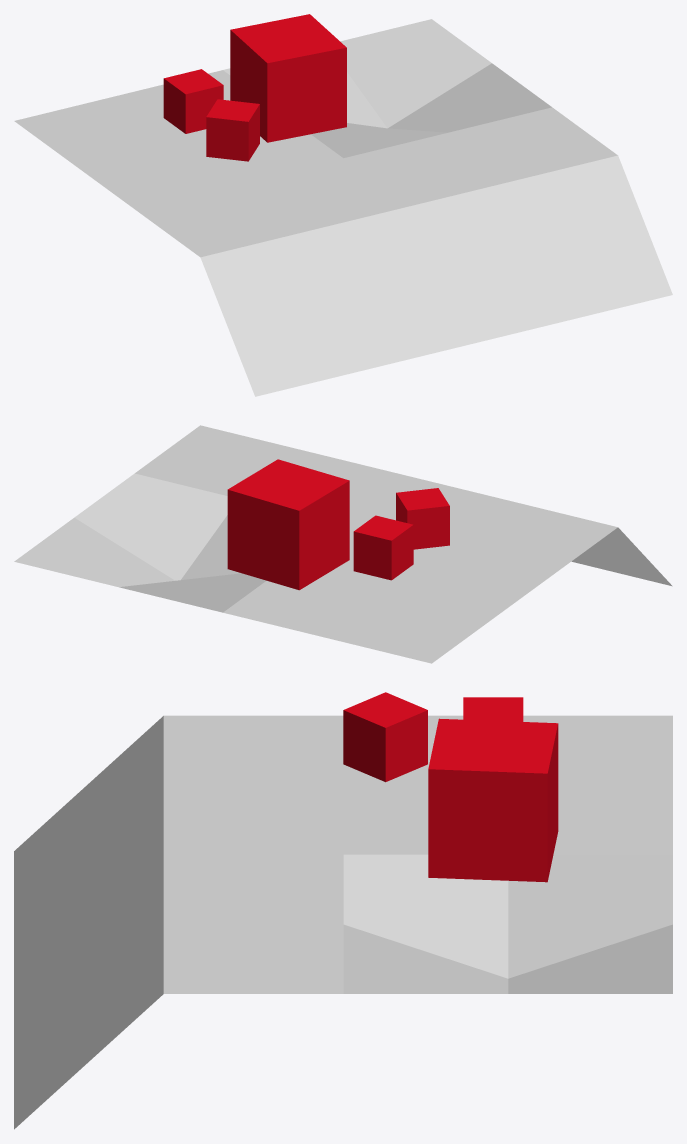
File: gltf_test.gltf
3 renders of one model, top to bottom at view 1: azimuth 30°, elevation 25°; view 2: azimuth 150°, elevation 25°; view 3: azimuth 270°, elevation 25°, orthographic. The views are drawn at different scales.
Visible parts, largest first — view 1: Terrain.002, Parent, Child.001, Child; view 2: Terrain.002, Parent, Child, Child.001; view 3: Terrain.002, Parent, Child.001, Child.
Part boxes in pixels (x1,y1,x2,y2): Terrain.002: [14, 19, 672, 396]; Parent: [230, 14, 346, 142]; Child.001: [206, 99, 259, 161]; Child: [163, 69, 223, 133]; Terrain.002: [14, 425, 672, 663]; Parent: [227, 459, 349, 590]; Child: [353, 515, 413, 580]; Child.001: [396, 488, 449, 549]; Terrain.002: [14, 715, 672, 1129]; Parent: [428, 718, 558, 882]; Child.001: [343, 692, 427, 782]; Child: [463, 697, 523, 721].
Bounding box in the file's own units: 22 × 9 × 22.
